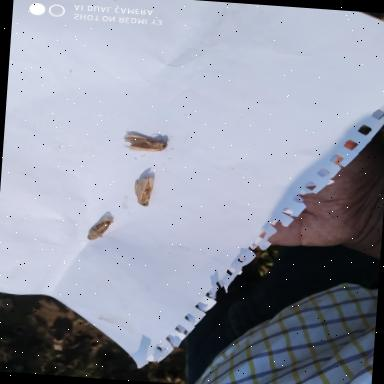abw: (120, 131, 169, 156), (84, 214, 115, 243), (130, 174, 156, 208)
